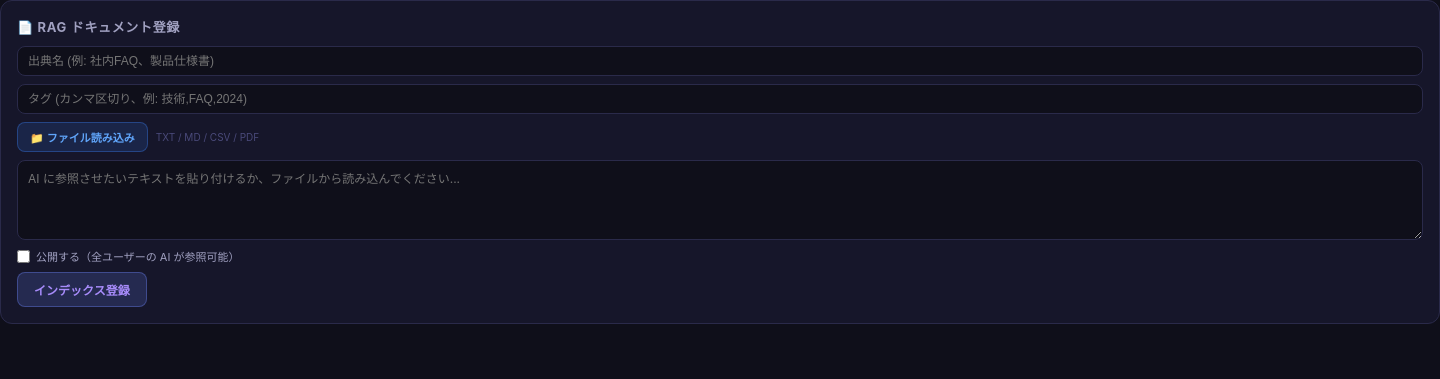
Test: DocumentUpload › fetch 失敗 (ネットワークエラー) 時にエラーメッセージを表示する
The width and height of the screenshot is (1440, 379).
In the text box with placeholder "AI に参照させたいテキストを貼り付けるか、ファイルから読み込んでください...": x=720, y=200 [17, 160, 1423, 240], type "テスト内容"
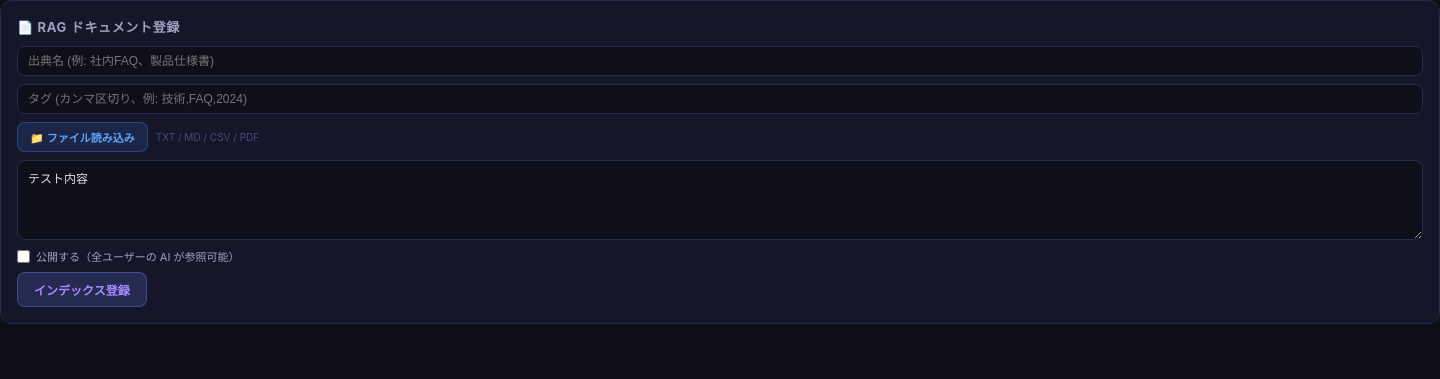
Click the button "インデックス登録": x=82, y=290 [17, 272, 147, 307]
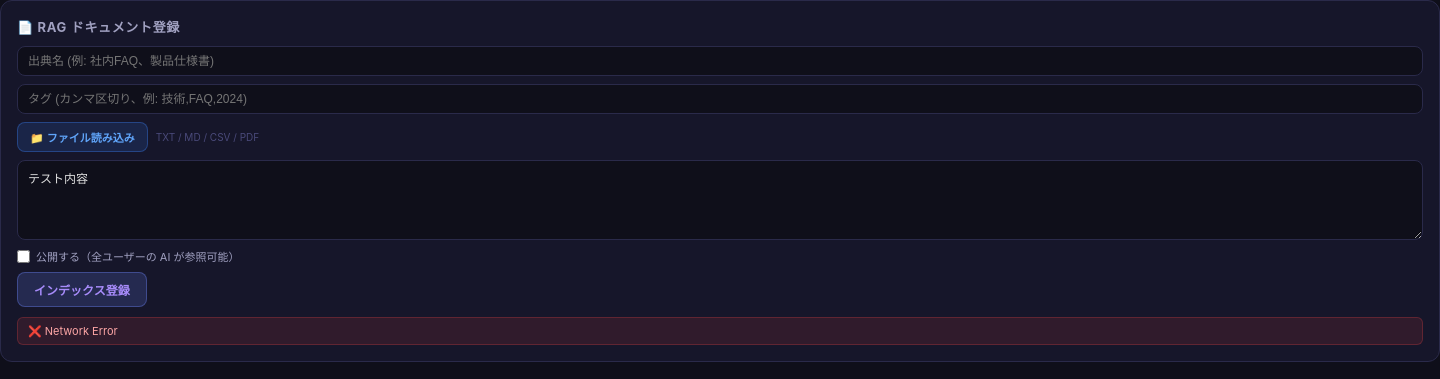
Now the text "❌ Network Error" is shown, box [17, 317, 1423, 345]
